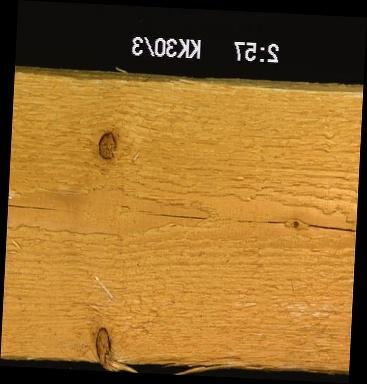dry_knot: (97, 128, 118, 161)
edge_knot: (93, 324, 113, 362)
split: (133, 205, 353, 223), (7, 196, 77, 213)
wave: (15, 71, 362, 89)
